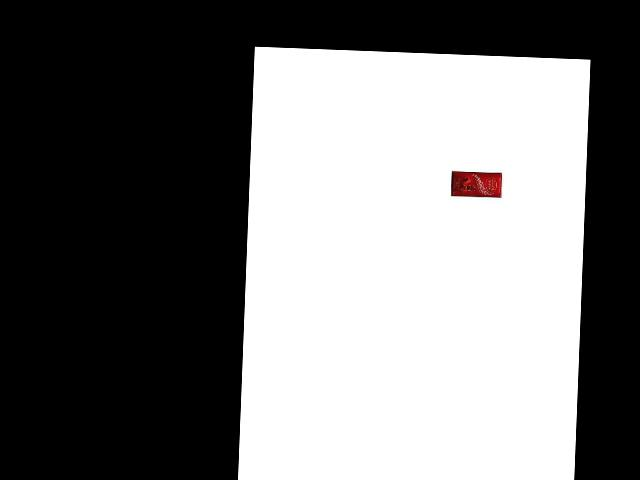chocolate: (447, 170, 503, 199)
